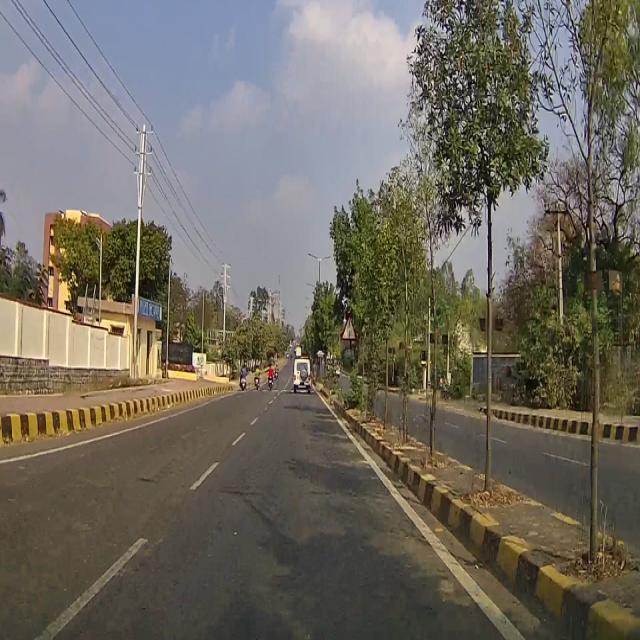gap-in-median: (342, 313, 358, 345)
